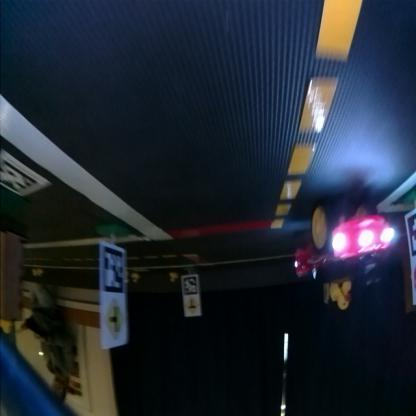Duckie: (329, 280, 352, 310), (170, 276, 176, 284), (134, 276, 140, 284), (38, 271, 44, 278)
Duckiebot: (297, 202, 395, 278)
Intersection sign: (103, 300, 125, 340), (186, 298, 200, 316)
QR code: (1, 153, 52, 197), (104, 245, 126, 291), (184, 278, 198, 296)
